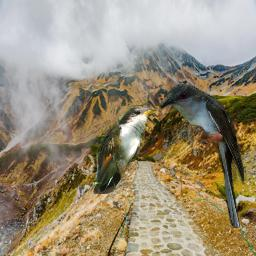Cuckoo: (159, 84, 247, 228), (93, 105, 157, 194)
